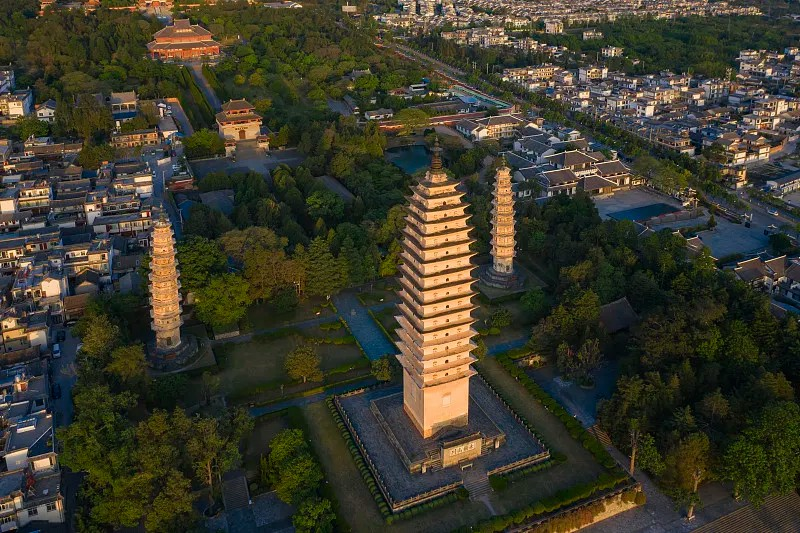ThreePagoda: (395, 136, 480, 437)
